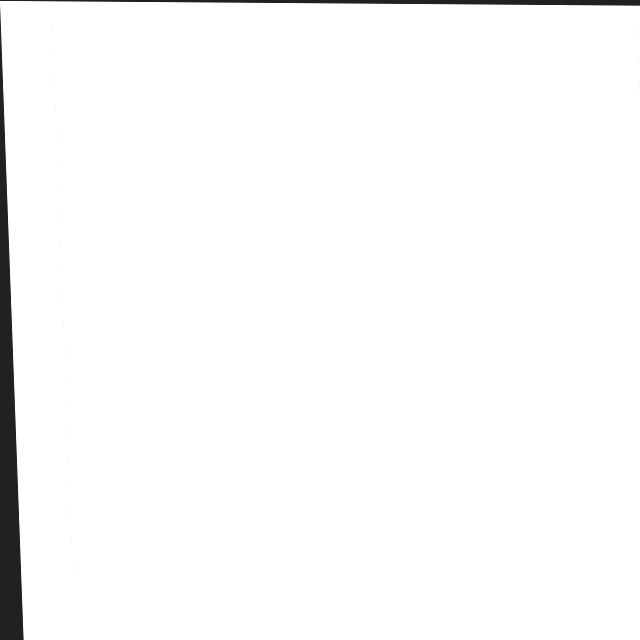qr_code: (52, 2, 640, 590)
